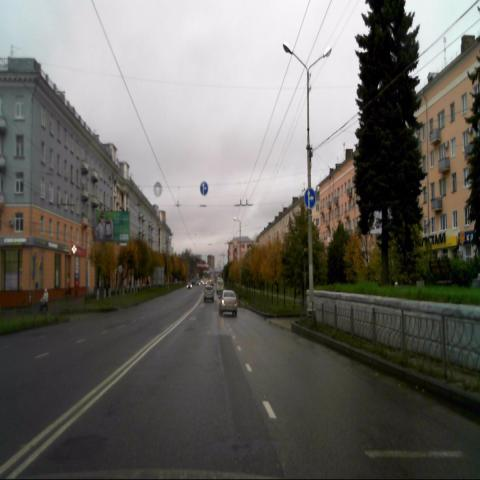4_1_4: (304, 188, 316, 209)
